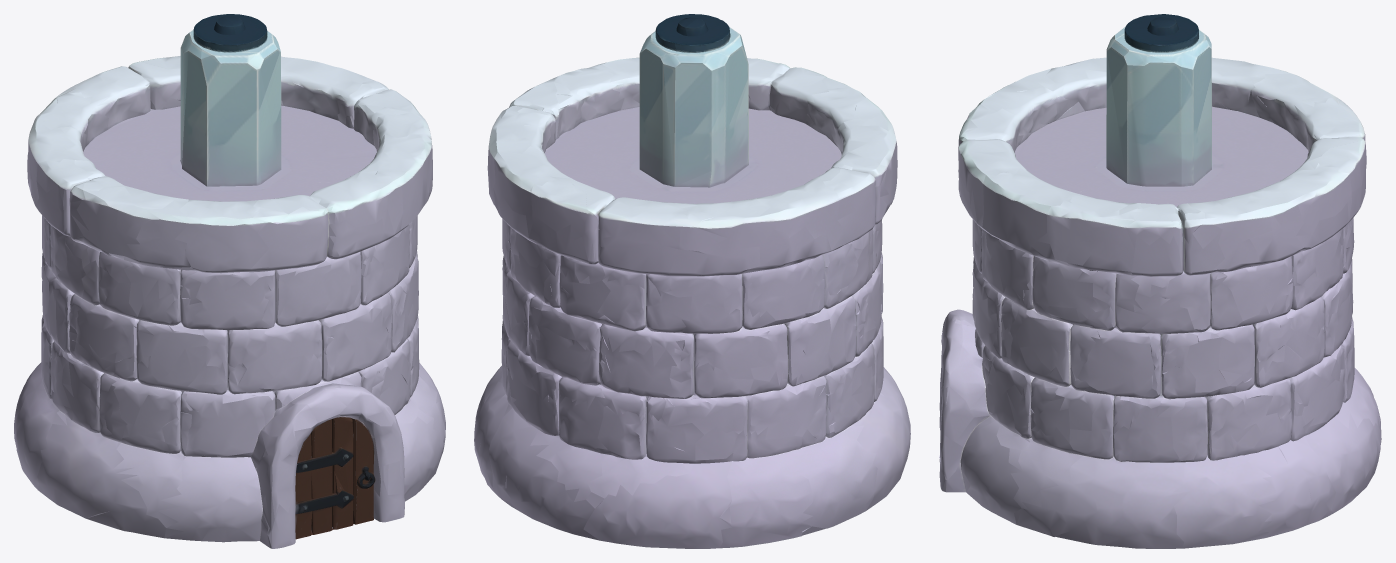
The model's file is body.glb.
3 views of the same model, side by side, from view 1: azimuth 30°, elevation 25°; view 2: azimuth 150°, elevation 25°; view 3: azimuth 270°, elevation 25° (orthographic).
Bounding box in the file's own units: 1.72 × 1.9 × 1.74.
Materials: 1 (1 with a texture image).
